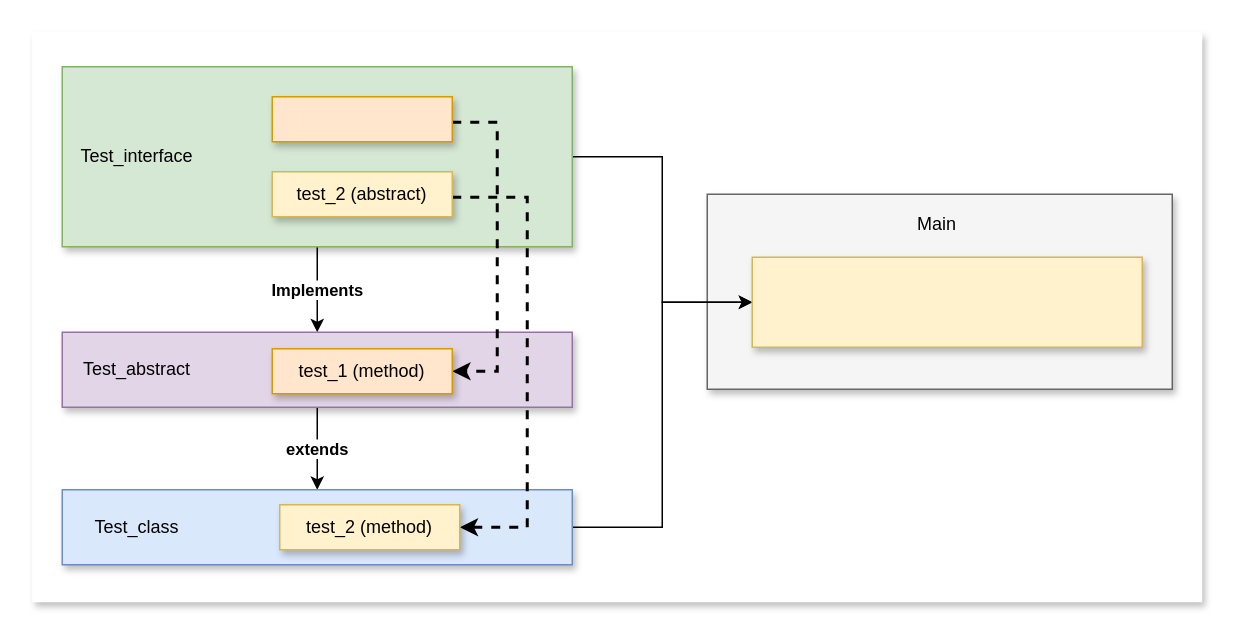
Image size: 1236x638. Some labels were removed from this diagram. The shapes that lost their labels are listed below. From the top down, each one's centre as x and y in pixels, then its label:
point (363, 120): test_1 (abstract)
point (948, 304): Test_interface int_ibject = new Test_class()
